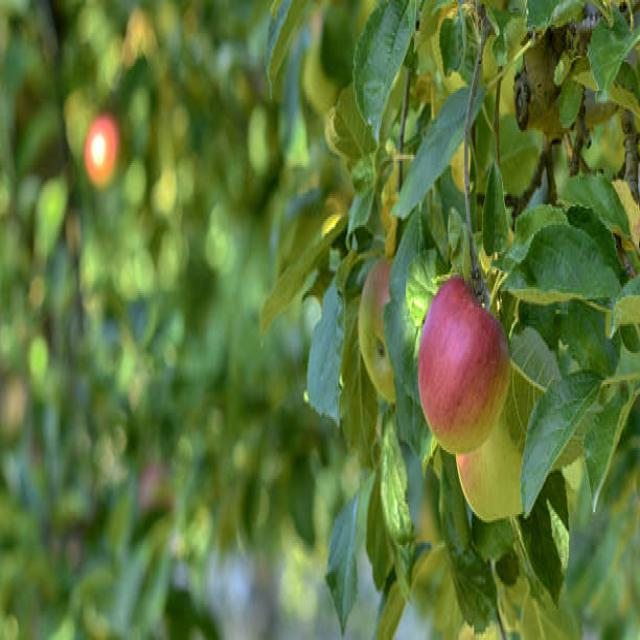Unripe: (417, 268, 512, 456)
